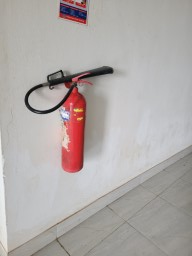fire_extinguisher: (49, 104, 130, 223)
